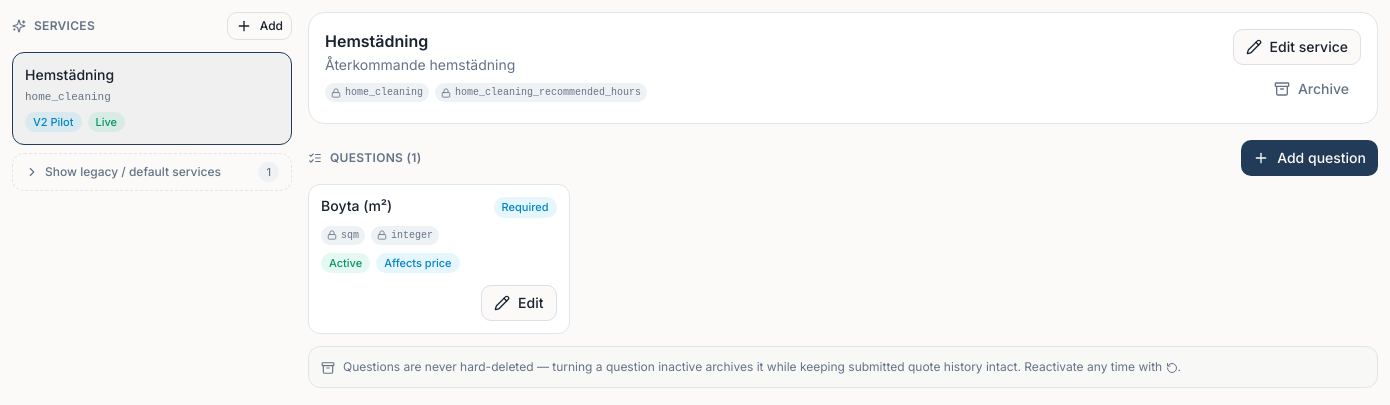
Test: ServicesFieldsEditor — GPM-2a legacy reveal + badges › marks a coming-soon legacy service
What coordinates should you click on to do the following:
click the button "Show legacy / default services 1"
I would click on:
 (152, 172)
Its box is [12,153,292,191].
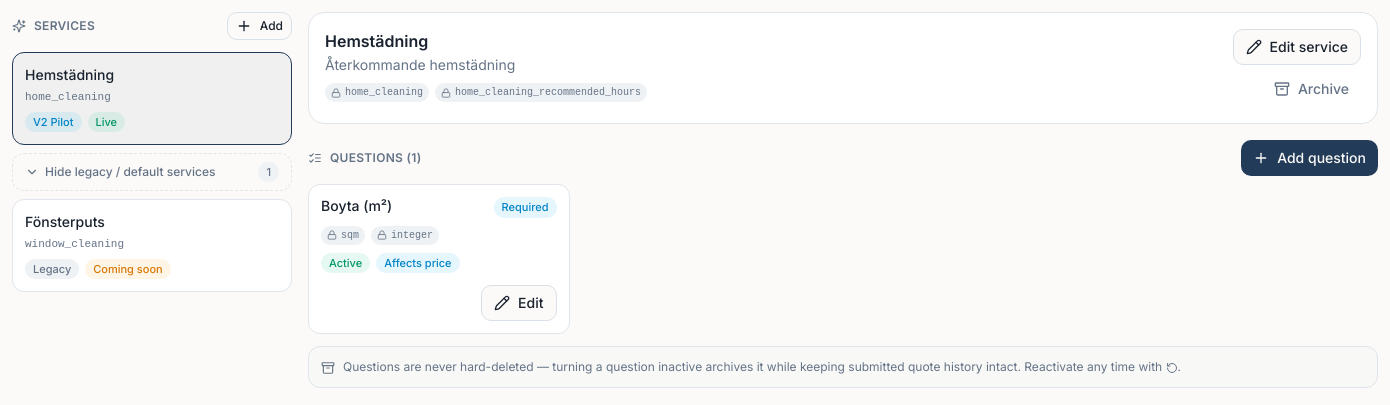
expect the text "Coming soon" is shown: met, box [85,258,171,279]
